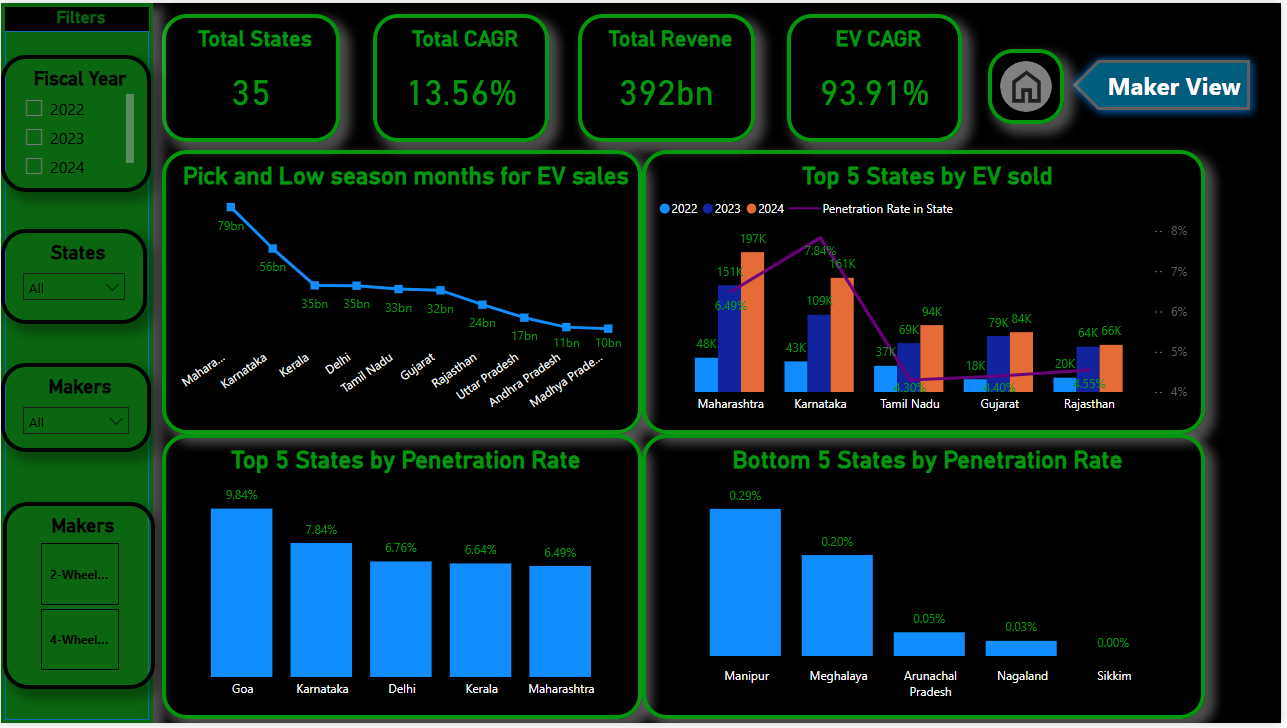

Layout of this report page (visuals, bound fields, positions):
{"tool":"powerbi","page":{"name":"State Report","canvas":[1280,720],"ordinal":2},"visuals":[{"type":"card","title":"Total States","fields":{"Values":["Count(electric_vehicle_sales_by_state.state)"]},"box":[161.1,11.1,177.8,127.8],"z":0},{"type":"card","title":"Total CAGR","fields":{"Values":["electric_vehicle_sales_by_state.CAGR total Sales by Maker (%)"]},"box":[372.2,11.1,175.6,127.8],"z":1000},{"type":"card","title":"Total Revene","fields":{"Values":["electric_vehicle_sales_by_state.Total EV Revenue"]},"box":[576.7,11.1,177.8,127.8],"z":2000},{"type":"card","title":"EV CAGR","fields":{"Values":["electric_vehicle_sales_by_state.CAGR EV Sales by states (%)"]},"box":[785.6,11.1,175.6,127.8],"z":3000},{"type":"shape","title":"Filters","box":[0,0,152.2,721.1],"z":4000},{"type":"slicer","title":"Fiscal Year","fields":{"Values":["dim_date.fiscal_year"]},"box":[0,52.2,150,136.7],"z":5000},{"type":"slicer","title":"Makers","fields":{"Values":["electric_vehicle_sales_by_makers.maker"]},"box":[0,360,150,88.9],"z":6000},{"type":"slicer","title":"States","fields":{"Values":["electric_vehicle_sales_by_state.state"]},"box":[0,225.6,145.6,95.6],"z":7000},{"type":"slicer","title":"Makers","fields":{"Values":["electric_vehicle_sales_by_state.vehicle_category"]},"box":[2.2,498.9,152.2,186.7],"z":8000},{"type":"lineChart","title":"Pick and Low season months for EV sales","fields":{"Category":["electric_vehicle_sales_by_state.state"],"Y":["electric_vehicle_sales_by_state.Total EV Revenue"]},"box":[161.2,147.1,479.3,284.3],"z":9000},{"type":"actionButton","box":[1063.3,47.8,194.4,67.8],"z":10000},{"type":"actionButton","box":[986.7,45.6,76.7,75.6],"z":11000},{"type":"lineClusteredColumnComboChart","title":"Top 5 States by EV sold","fields":{"Category":["electric_vehicle_sales_by_state.state"],"Series":["dim_date.fiscal_year"],"Y":["Sum(electric_vehicle_sales_by_state.electric_vehicles_sold)"],"Y2":["electric_vehicle_sales_by_state.Penetration Rate in State"]},"box":[640.5,147.1,563.2,284.3],"z":12000},{"type":"lineClusteredColumnComboChart","title":"Top 5 States by Penetration Rate","fields":{"Category":["electric_vehicle_sales_by_state.state"],"Y":["electric_vehicle_sales_by_state.Penetration Rate in State"]},"box":[161.2,431.4,479.3,284.3],"z":13000},{"type":"lineClusteredColumnComboChart","title":"Bottom 5 States by Penetration Rate","fields":{"Category":["electric_vehicle_sales_by_state.state"],"Y":["electric_vehicle_sales_by_state.Penetration Rate in State"]},"box":[640.5,431.4,563.2,284.3],"z":14000}]}

Visuals, with their boxes in screenshot pixels (x1, y1, x2, y2), scaled from the page's 1280x720 canvas onto the 1287x728 screenshot:
"Total States" card: [162,11,341,140]
"Total CAGR" card: [374,11,551,140]
"Total Revene" card: [580,11,759,140]
"EV CAGR" card: [790,11,966,140]
"Filters" shape: [0,0,153,727]
"Fiscal Year" slicer: [0,53,151,191]
"Makers" slicer: [0,364,151,454]
"States" slicer: [0,228,146,325]
"Makers" slicer: [2,504,155,693]
"Pick and Low season months for EV sales" lineChart: [162,149,644,436]
actionButton: [1069,48,1265,117]
actionButton: [992,46,1069,123]
"Top 5 States by EV sold" lineClusteredColumnComboChart: [644,149,1210,436]
"Top 5 States by Penetration Rate" lineClusteredColumnComboChart: [162,436,644,724]
"Bottom 5 States by Penetration Rate" lineClusteredColumnComboChart: [644,436,1210,724]
